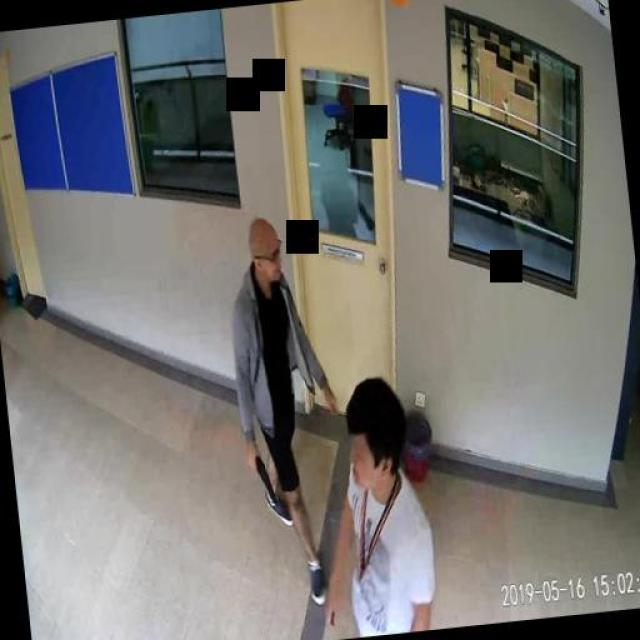gun: (247, 449, 275, 505)
